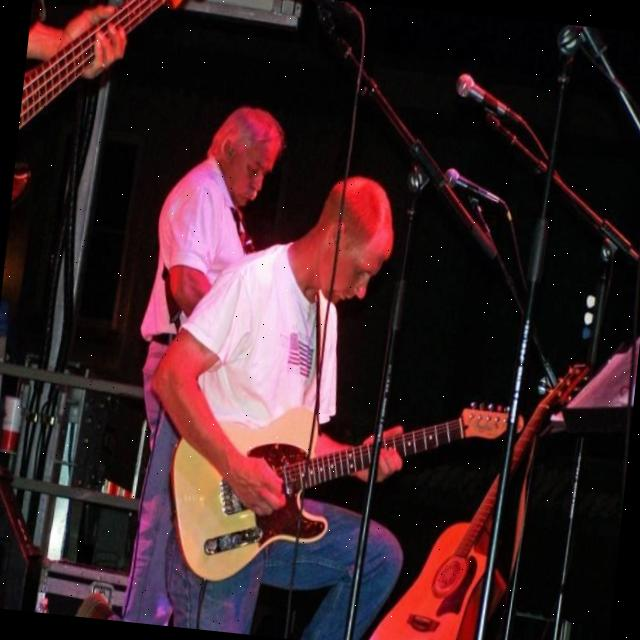guitar: (158, 374, 523, 612), (363, 341, 590, 640)
